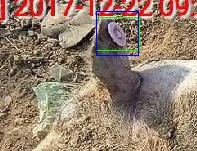text: (96, 17, 139, 50)
